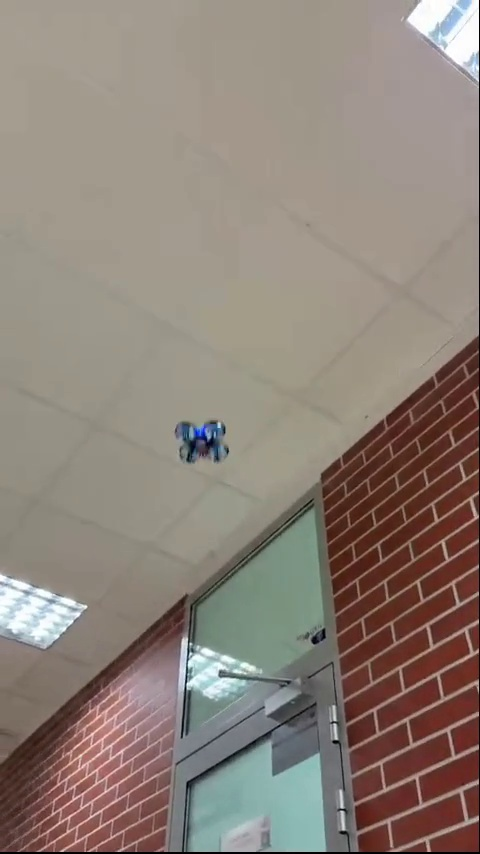drone: (176, 420, 225, 460)
